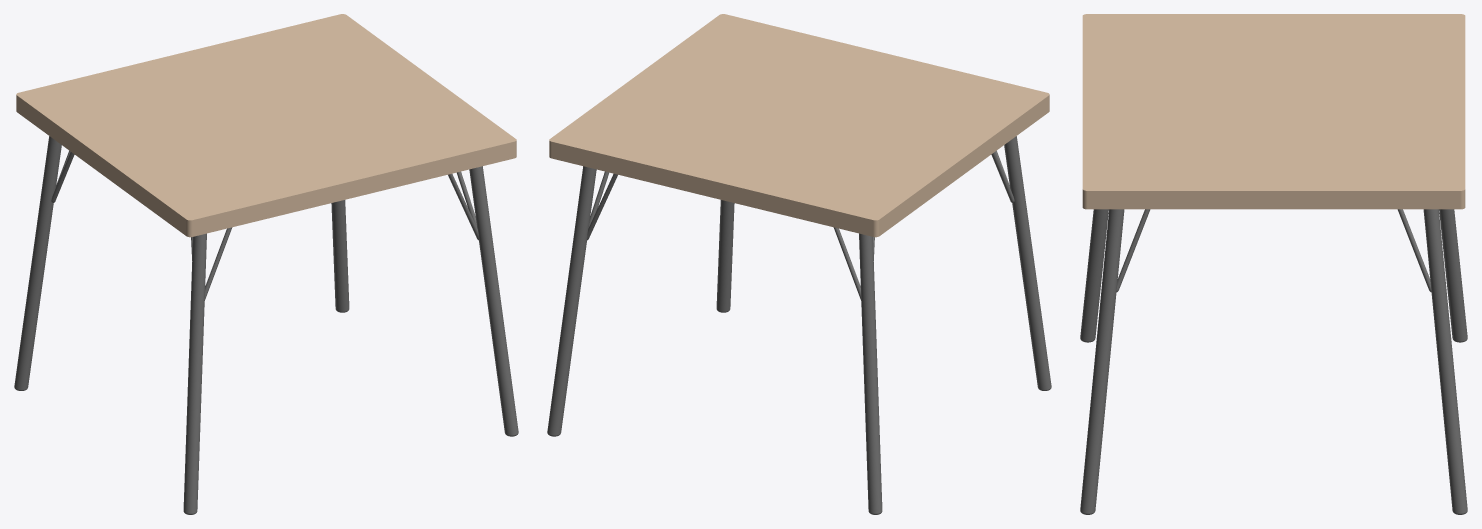
File: 565_ダイニングテーブル2人掛け.glb
The picture shows the model from 3 angles, left to right: view 1: azimuth 30°, elevation 25°; view 2: azimuth 150°, elevation 25°; view 3: azimuth 270°, elevation 25°; orthographic projection. The views are drawn at different scales.
Visible parts, largest first — view 1: Body; view 2: Body; view 3: Body.
Part boxes in pixels (left/top/right/bottom): Body: left=14, top=14, right=518, bottom=514; Body: left=547, top=14, right=1051, bottom=514; Body: left=1080, top=14, right=1467, bottom=514.
Bounding box in the file's own units: 0.829 × 0.7 × 0.759.
